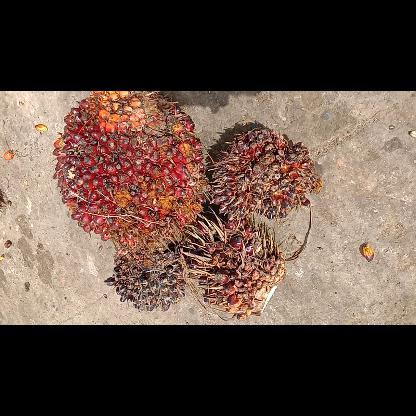TBS abnormal: (208, 122, 324, 222), (186, 214, 288, 320), (101, 241, 190, 313)
TBS masak: (52, 92, 206, 246)
